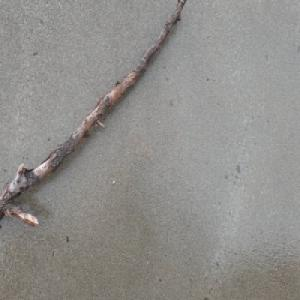Wood: (0, 0, 186, 227)
